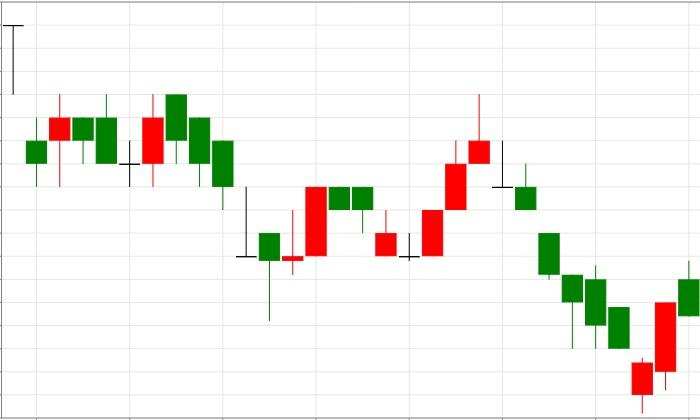morning_star_rise: (166, 94, 327, 322)
